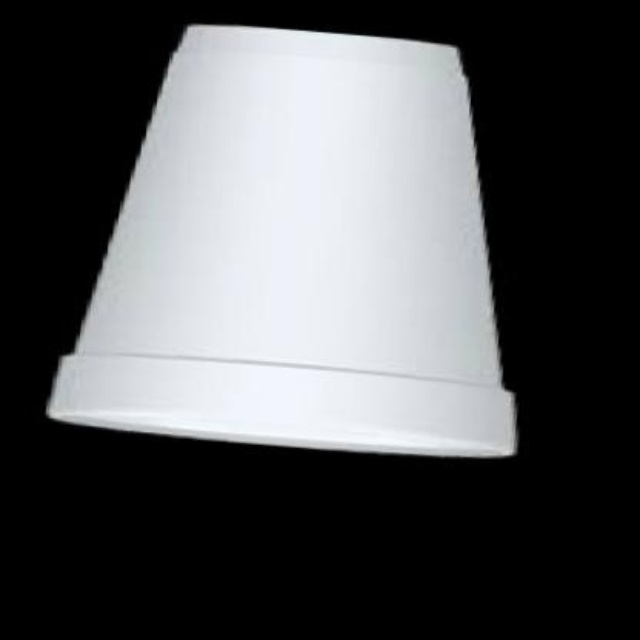trash: (48, 26, 514, 455)
